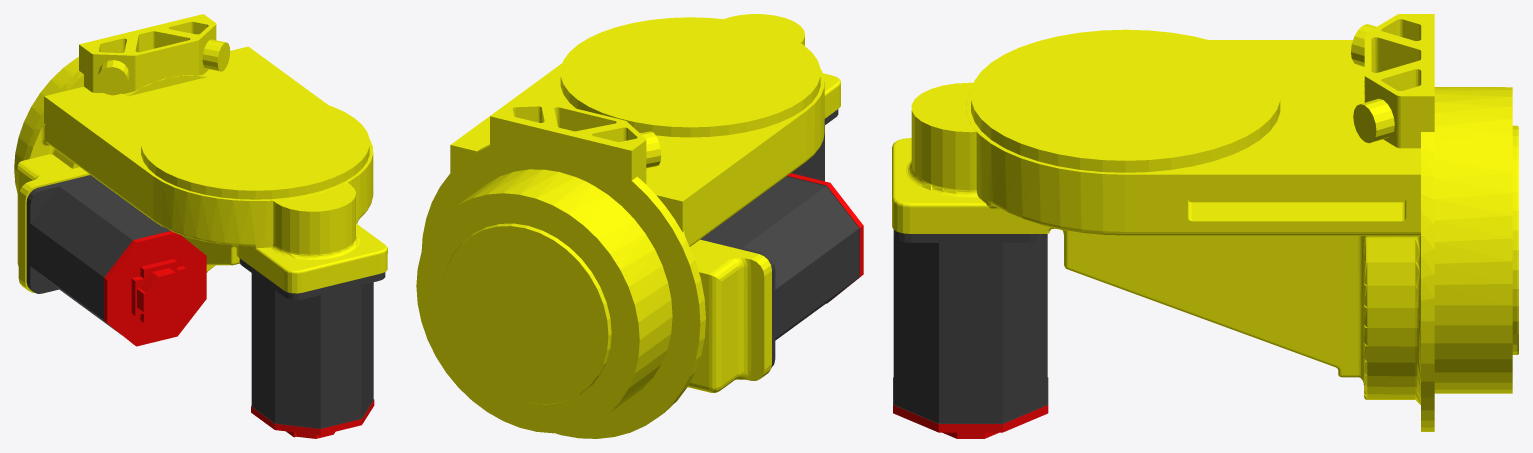
3 renders of one model, left to right at view 1: azimuth 30°, elevation 25°; view 2: azimuth 150°, elevation 25°; view 3: azimuth 270°, elevation 25°, orthographic. The views are drawn at different scales.
Visible parts, largest first — view 1: node; view 2: node; view 3: node.
Boxes of the visible parts, bbox=[...] form: node: bbox=[14, 14, 387, 438]; node: bbox=[416, 14, 863, 438]; node: bbox=[892, 14, 1518, 438].
Bounding box in the file's own units: 483 × 461 × 708.
